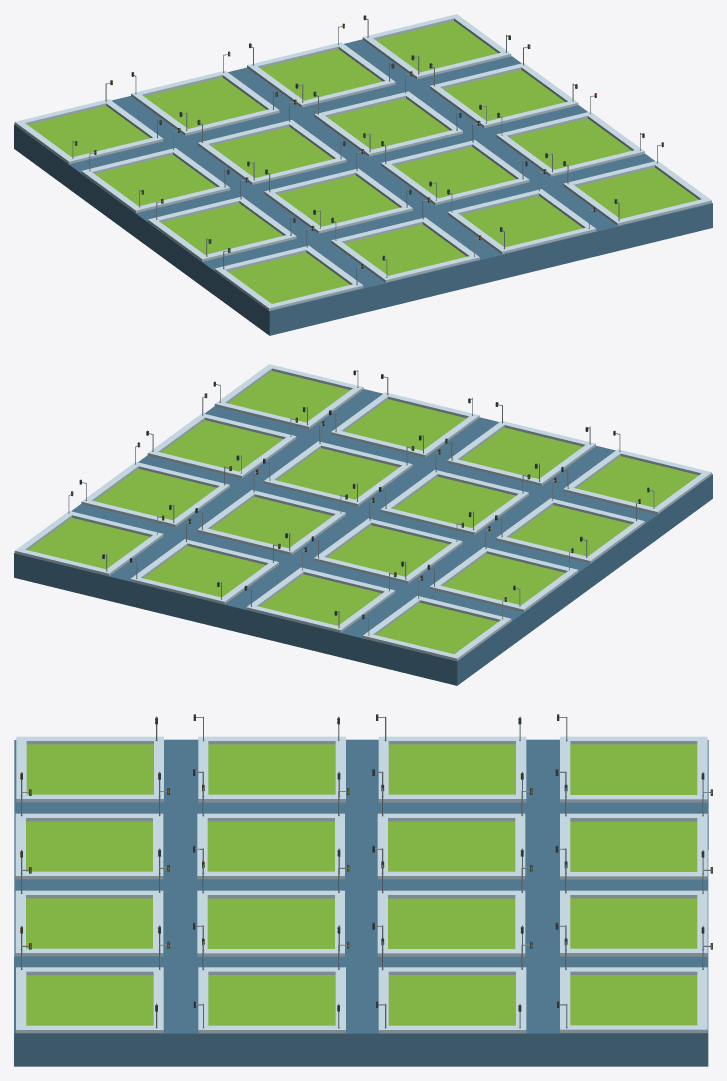
The model's file is Land2.glb.
3 renders of one model, top to bottom at view 1: azimuth 30°, elevation 25°; view 2: azimuth 150°, elevation 25°; view 3: azimuth 270°, elevation 25°, orthographic. The views are drawn at different scales.
Parts seen in each view (by area): view 1: Cube.012; view 2: Cube.012; view 3: Cube.012.
Boxes of the visible parts, x1,y1,x2,y2 form: Cube.012: [14, 14, 712, 335]; Cube.012: [14, 364, 712, 685]; Cube.012: [14, 736, 708, 1066].
Bounding box in the file's own units: 65.14 × 6.55 × 65.06.
